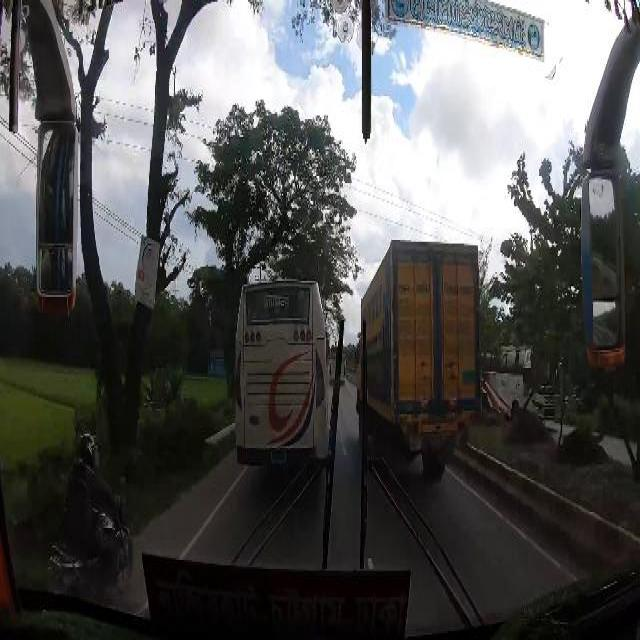bike: (44, 419, 135, 597)
vehicle: (354, 237, 482, 480), (234, 276, 328, 470), (484, 343, 563, 421)
